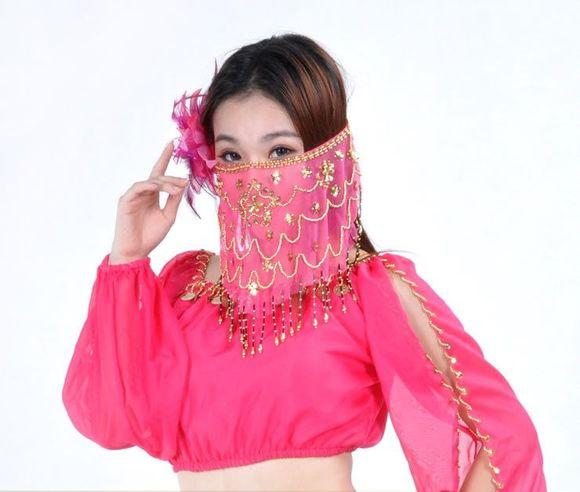OK: (211, 118, 324, 238)
